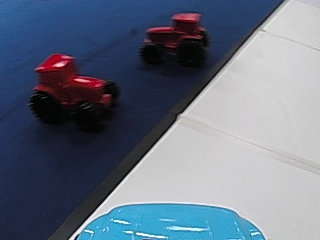tractor: (28, 49, 117, 129), (139, 9, 212, 69)
